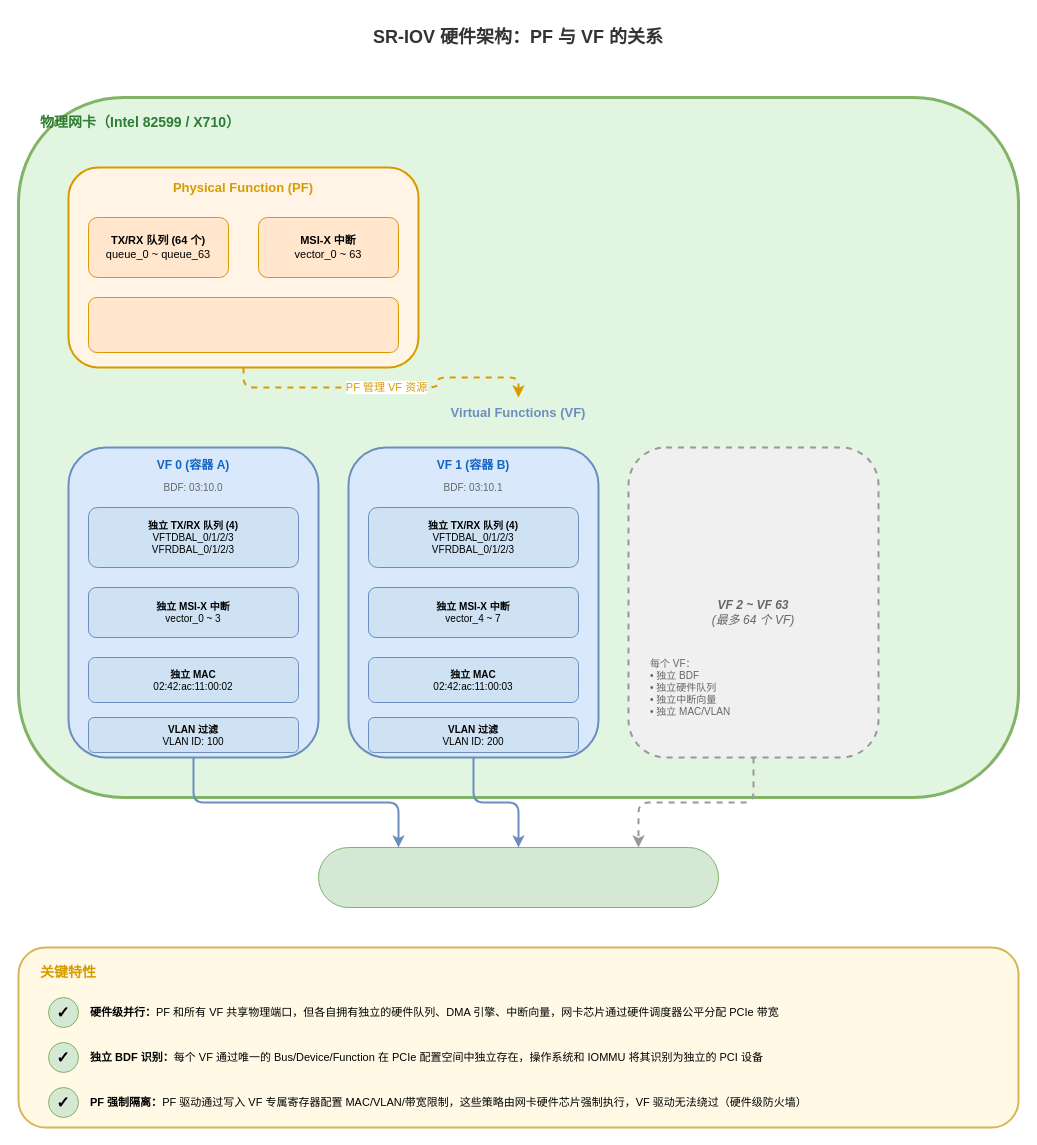
This 1037x1145 diagram has some shape labels left out. Here are the shapes that lost their labels. From the top down, the centre of each, then its label:
the point at 243,324: PF 配置寄存器 TDBAL/TDBAH RDBAL/RDBAH 管理 VF 资源
the point at 518,877: PCIe 物理端口 共享物理线路
